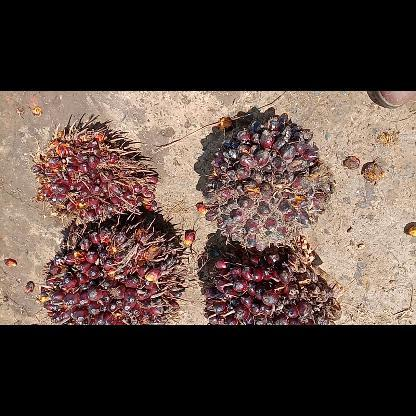Kurang masak: (204, 115, 333, 249), (41, 216, 199, 324), (29, 121, 157, 226), (202, 244, 340, 324)
